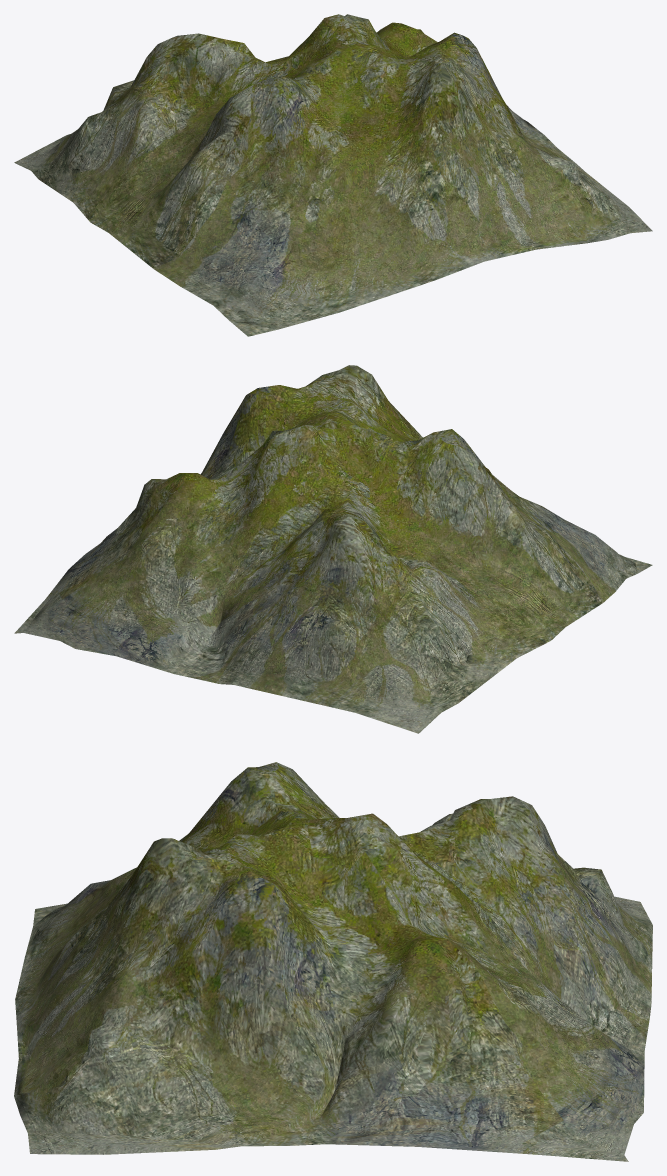
The model's file is MounainAlps.fbx.
3 renders of one model, top to bottom at view 1: azimuth 30°, elevation 25°; view 2: azimuth 150°, elevation 25°; view 3: azimuth 270°, elevation 25°, orthographic. The views are drawn at different scales.
Parts seen in each view (by area): view 1: LV_Common_Mountain_A_Alps01_SM_KSS; view 2: LV_Common_Mountain_A_Alps01_SM_KSS; view 3: LV_Common_Mountain_A_Alps01_SM_KSS.
Boxes of the visible parts, x1=… form: LV_Common_Mountain_A_Alps01_SM_KSS: x1=14, y1=14, x2=652, y2=336; LV_Common_Mountain_A_Alps01_SM_KSS: x1=14, y1=365, x2=652, y2=733; LV_Common_Mountain_A_Alps01_SM_KSS: x1=14, y1=762, x2=652, y2=1161.
Bounding box in the file's own units: 169 × 65 × 163.
